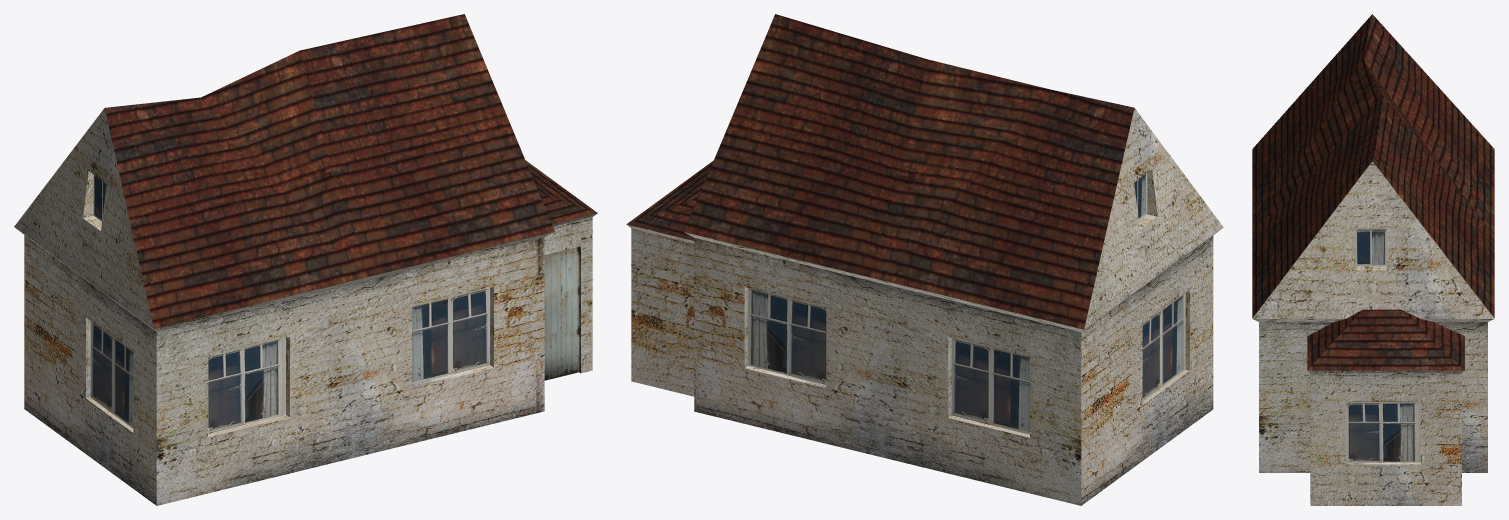
The model's file is dom.obj.
3 views of the same model, side by side, from view 1: azimuth 30°, elevation 25°; view 2: azimuth 150°, elevation 25°; view 3: azimuth 270°, elevation 25° (orthographic). The views are drawn at different scales.
Parts seen in each view (by area): view 1: dom_obj0; view 2: dom_obj0; view 3: dom_obj0.
Boxes of the visible parts, bbox=[...] form: dom_obj0: bbox=[14, 14, 597, 505]; dom_obj0: bbox=[626, 14, 1223, 505]; dom_obj0: bbox=[1252, 14, 1494, 505].
Bounding box in the file's own units: 8.9 × 6.31 × 4.53.
1 material, 1 textured.
